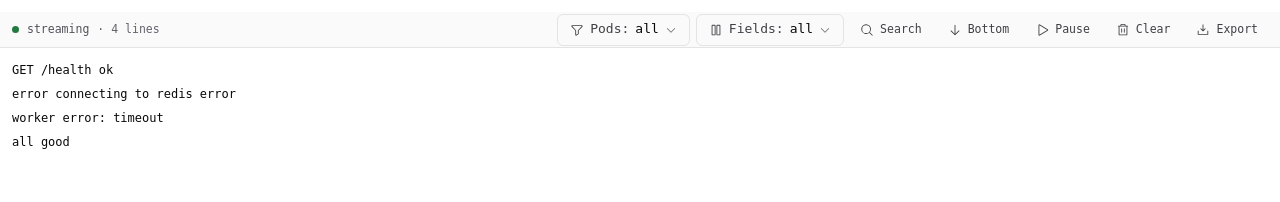
Test: LogsPane search › shows the current match count for message matches
Press f
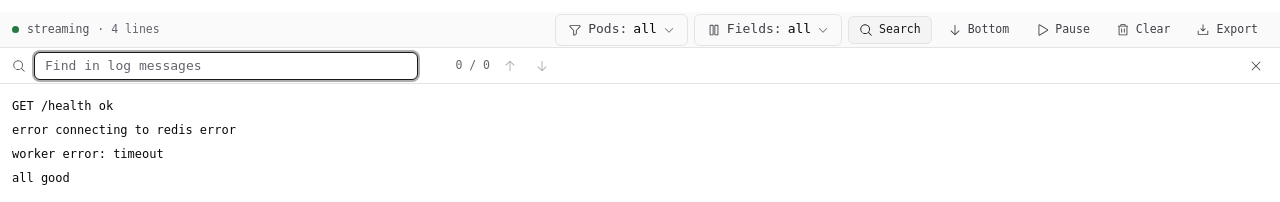
In the field named "Search logs": (226, 66) [34, 52, 418, 80], type "error"
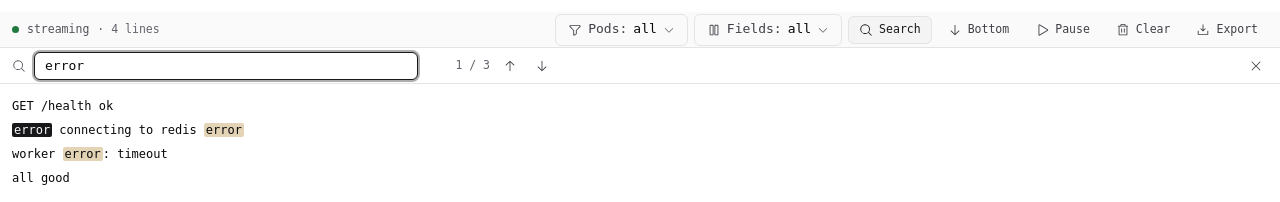
expect the text "1 / 3" is shown: met, box [455, 58, 490, 72]
